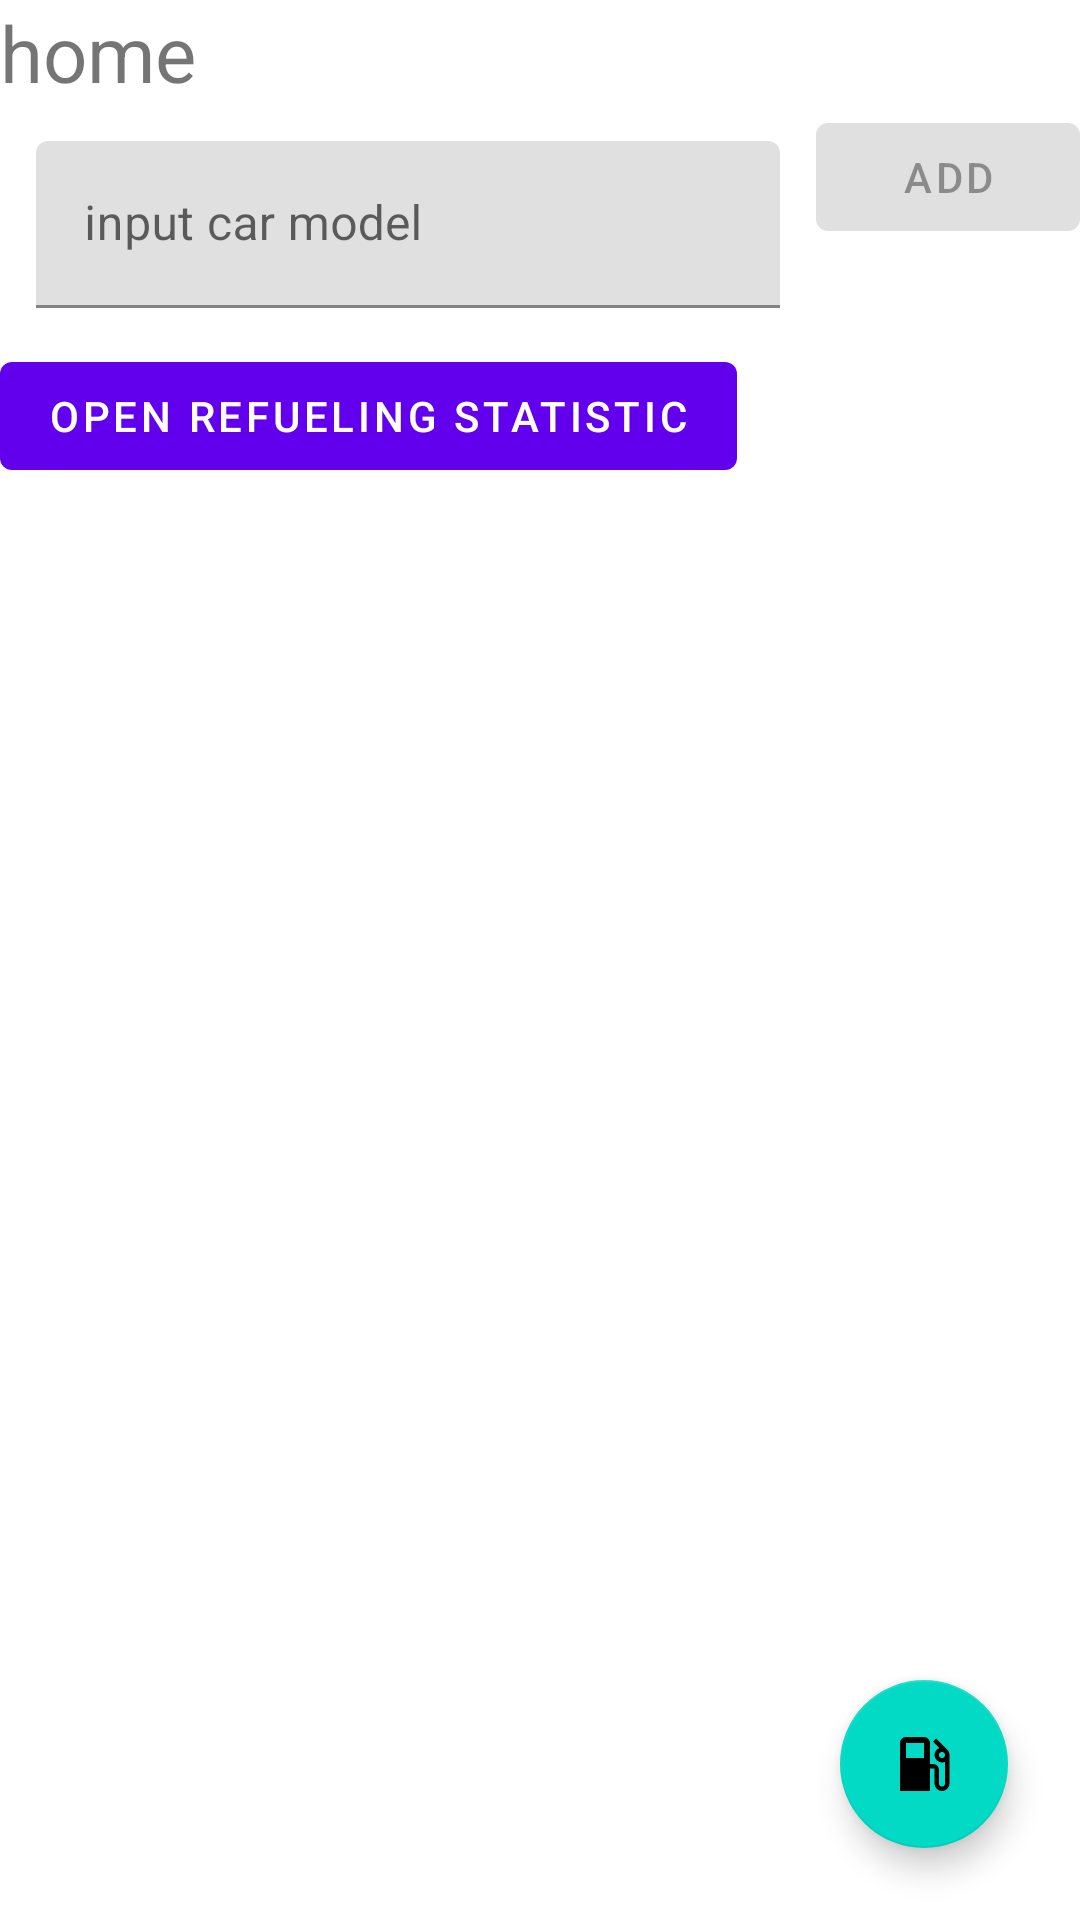

Point at icon controls on the screen. Image size 1080×1920, points as [x,y].
gas station: [924,1764]
